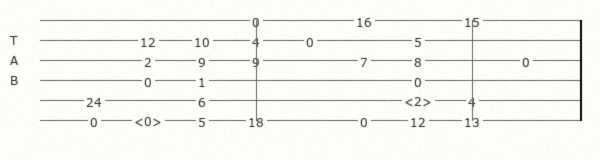0: (90, 114, 102, 127), (144, 74, 156, 87), (252, 14, 264, 27), (306, 34, 318, 47), (360, 114, 372, 127), (414, 74, 426, 87), (522, 54, 534, 67)
1: (198, 74, 210, 87)
10: (194, 34, 214, 47)
12: (140, 34, 160, 47), (410, 114, 430, 127)
13: (464, 114, 484, 127)
15: (464, 14, 484, 27)
16: (356, 14, 376, 27)
18: (248, 114, 268, 127)
2: (144, 54, 156, 67)
24: (86, 94, 106, 107)
4: (252, 34, 264, 47), (468, 94, 480, 107)
5: (198, 114, 210, 127), (414, 34, 426, 47)
6: (198, 94, 210, 107)
7: (360, 54, 372, 67)
8: (414, 54, 426, 67)
9: (198, 54, 210, 67), (252, 54, 264, 67)
harmonic: (134, 113, 166, 127), (404, 93, 436, 107)
